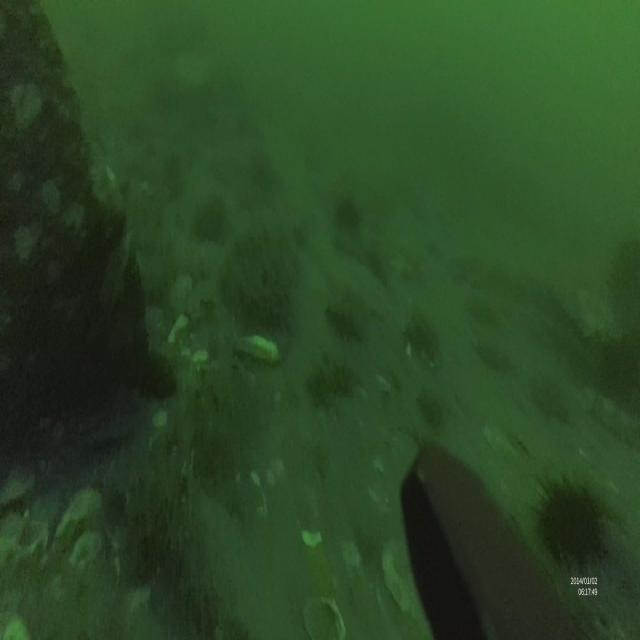echinus: (537, 470, 609, 578)
